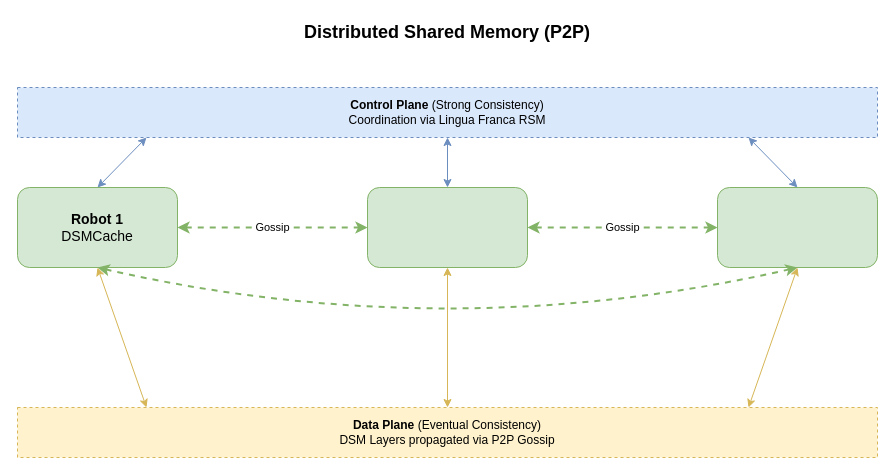
Some shapes in this 895 by 475 pixel diagram are drawn without their labels. The centre of each missing label's shape, as x and y in pixels:
Robot 2 DSMCache: the point at 447,227
Robot N DSMCache: the point at 797,227
